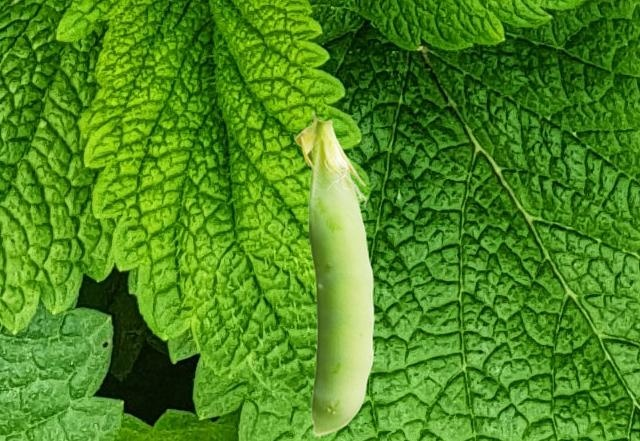pea: (294, 111, 373, 435)
